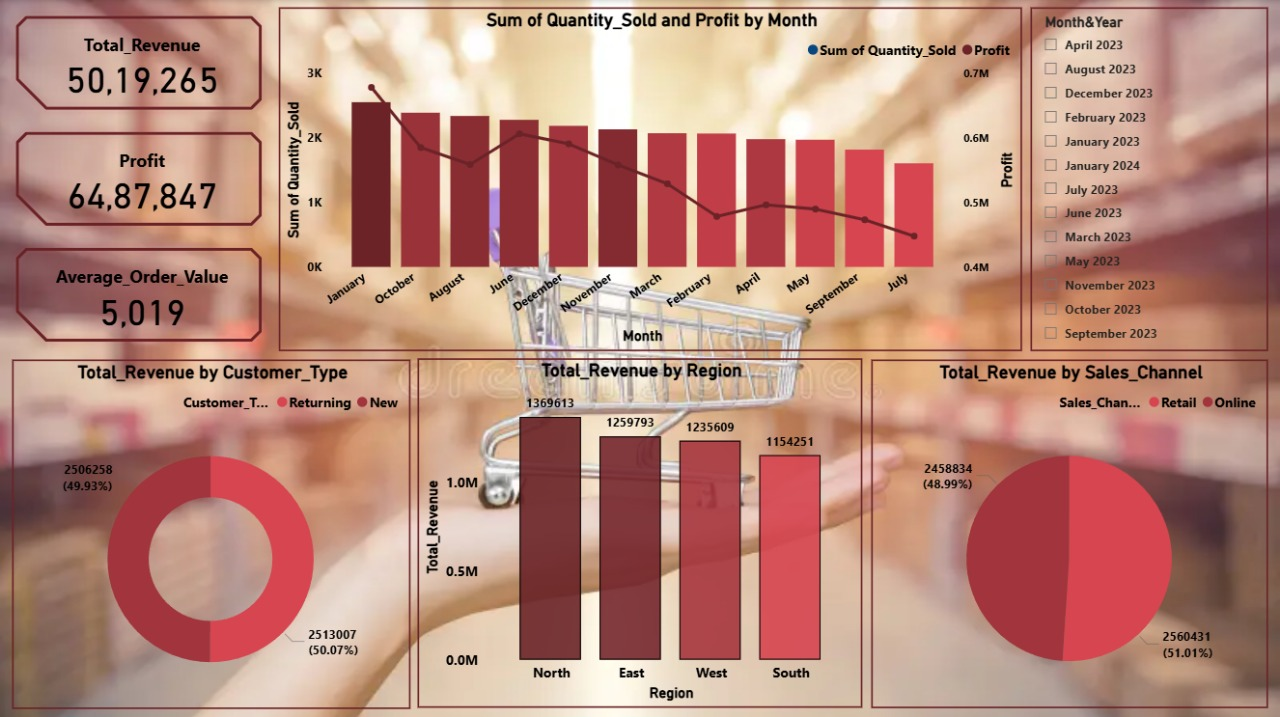

The dashboard page shown, as its layout file describes it:
{"tool":"powerbi","page":{"name":"Page 2","canvas":[1280,720],"ordinal":1},"visuals":[{"type":"donutChart","fields":{"Category":["sales.Customer_Type"],"Y":["sales.Total_Revenue"]},"box":[12.1,359.5,398.1,349.9],"z":0},{"type":"clusteredColumnChart","fields":{"Category":["sales.Region"],"Y":["sales.Total_Revenue"]},"box":[417.4,358.3,445.2,349.9],"z":1000},{"type":"pieChart","fields":{"Y":["sales.Total_Revenue"],"Category":["sales.Sales_Channel"]},"box":[871.1,359.5,396.9,348.7],"z":2000},{"type":"lineStackedColumnComboChart","fields":{"Category":["sales.Month"],"Y":["Sum(sales.Quantity_Sold)"],"Y2":["sales.Profit"]},"box":[278.7,7.2,743.2,343.8],"z":3000},{"type":"slicer","fields":{"Values":["sales.Month&Year"]},"box":[1030.3,7.2,237.7,343.8],"z":4000},{"type":"cardVisual","fields":{"Data":["sales.Total_Revenue","sales.Profit","sales.Average_Order_Value"]},"box":[0,0,278.7,358.3],"z":5000}]}

Visuals, with their boxes in screenshot pixels (x1, y1, x2, y2), scaled from the page's 1280x720 canvas onto the 1280x717 screenshot:
donutChart - sales.Customer_Type x sales.Total_Revenue: (left=12, top=358, right=410, bottom=706)
clusteredColumnChart - sales.Region x sales.Total_Revenue: (left=417, top=357, right=863, bottom=705)
pieChart - sales.Total_Revenue x sales.Sales_Channel: (left=871, top=358, right=1268, bottom=705)
lineStackedColumnComboChart - sales.Month x Sum(sales.Quantity_Sold): (left=279, top=7, right=1022, bottom=350)
slicer - sales.Month&Year: (left=1030, top=7, right=1268, bottom=350)
cardVisual - sales.Total_Revenue x sales.Profit: (left=0, top=0, right=279, bottom=357)
